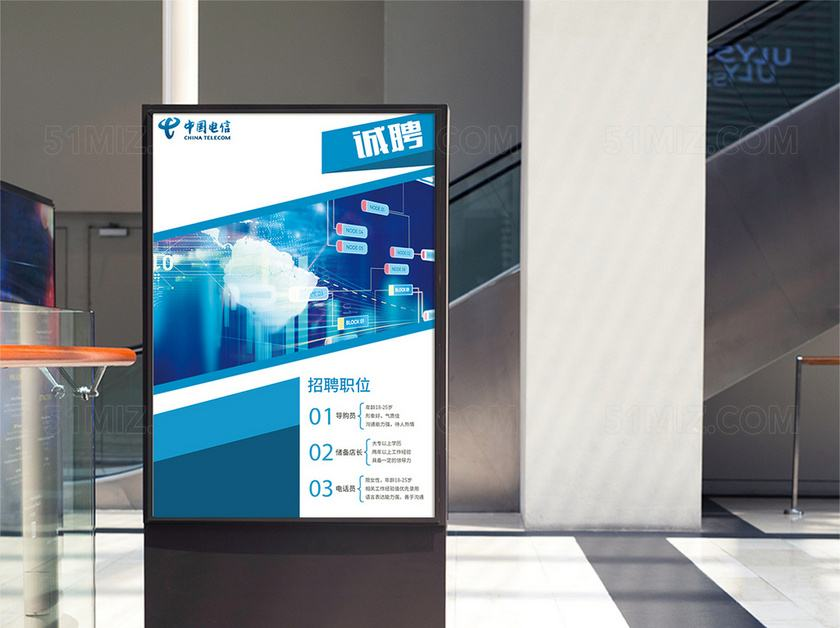bill: (150, 112, 436, 520)
